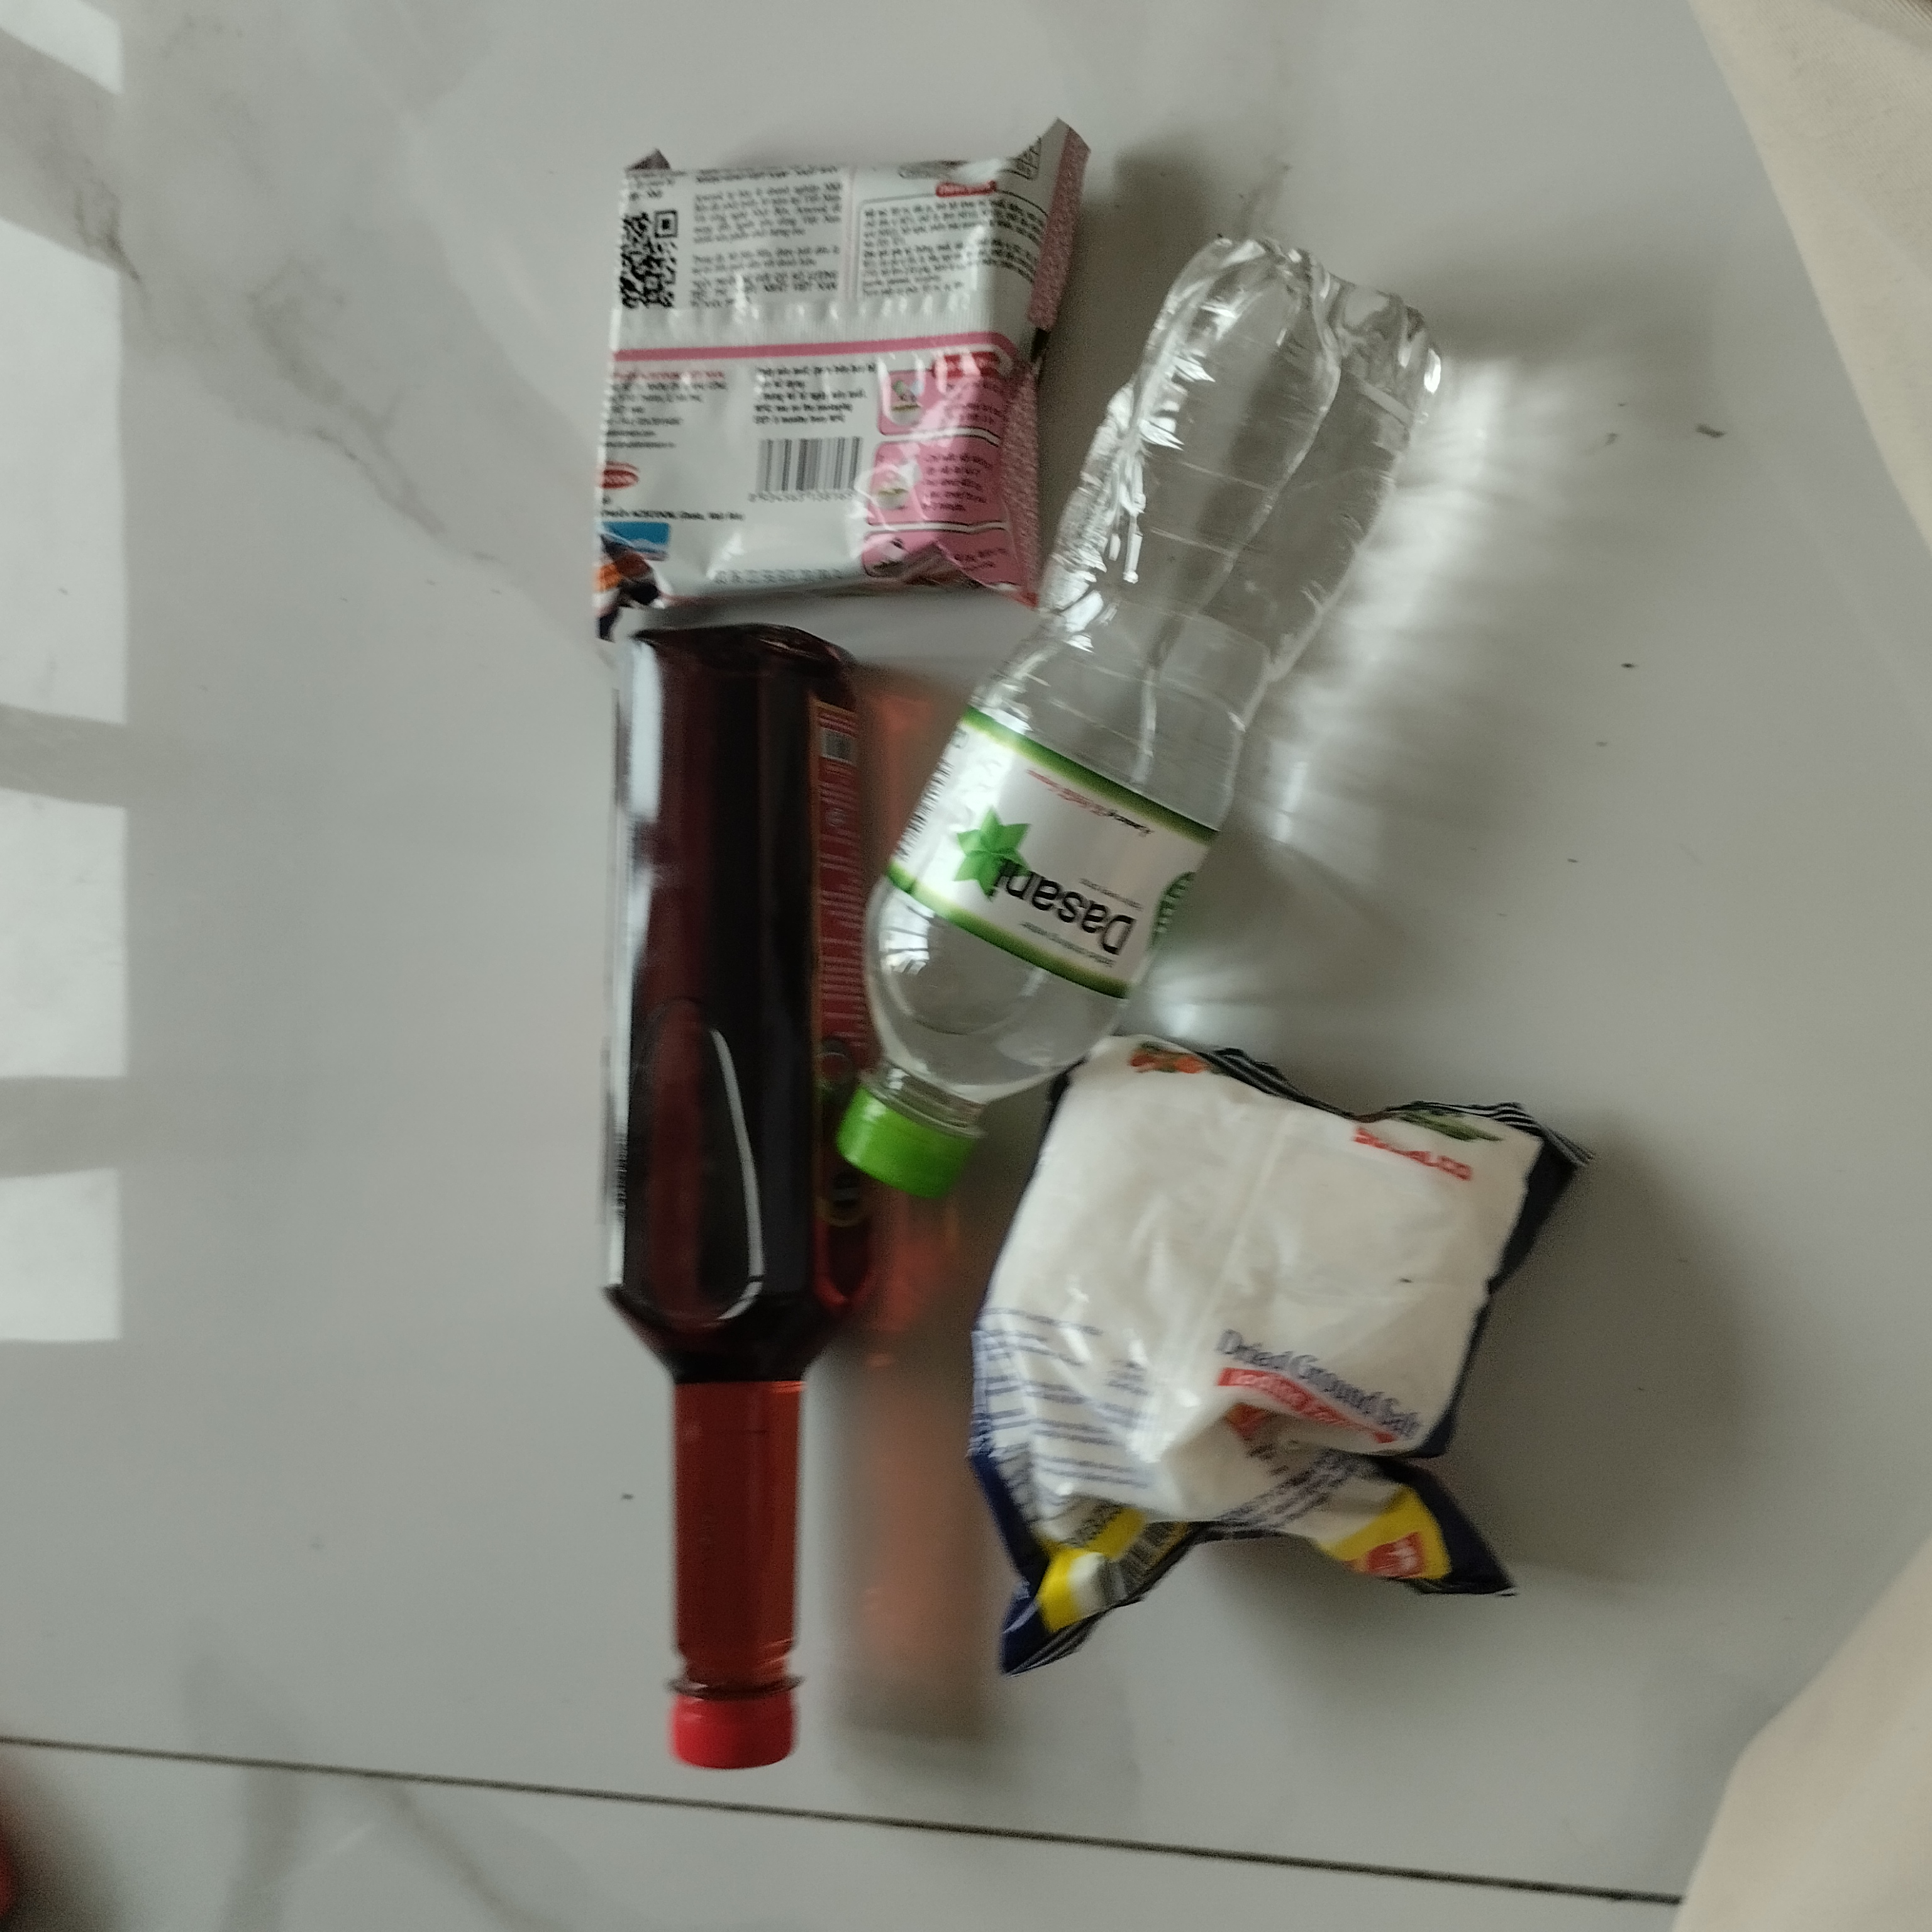Dasani: (833, 219, 1460, 1200)
Haohao: (589, 103, 1104, 603)
Namngu: (598, 625, 876, 1771)
Salt: (959, 1010, 1576, 1693)
